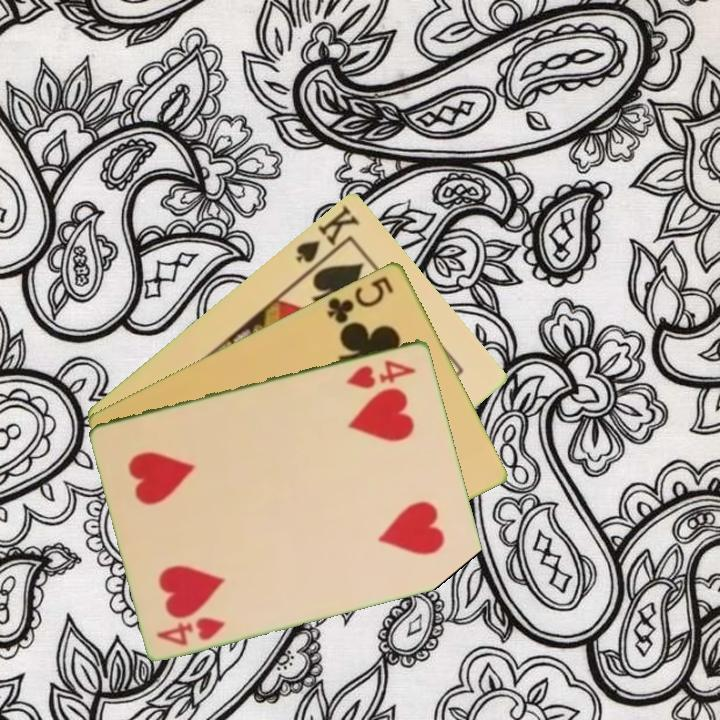4h: (342, 356, 419, 391), (153, 613, 229, 648)
5c: (323, 272, 397, 326)
Ks: (292, 201, 363, 276)
